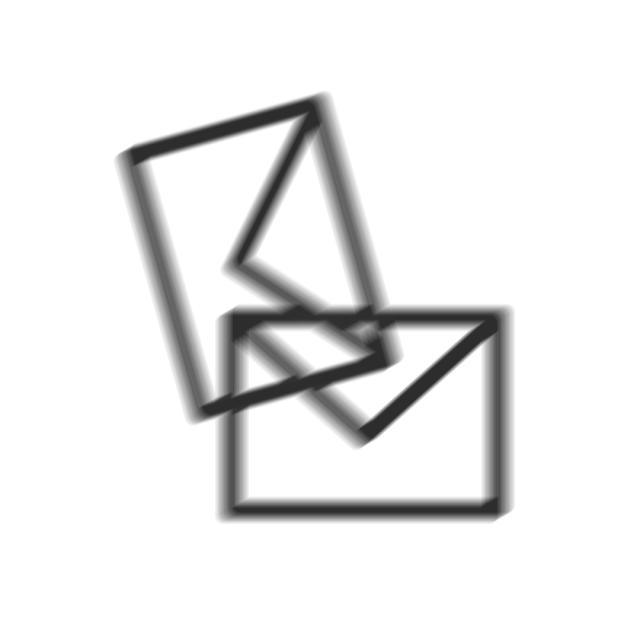key: (111, 86, 409, 427)
letter: (209, 303, 522, 529)
